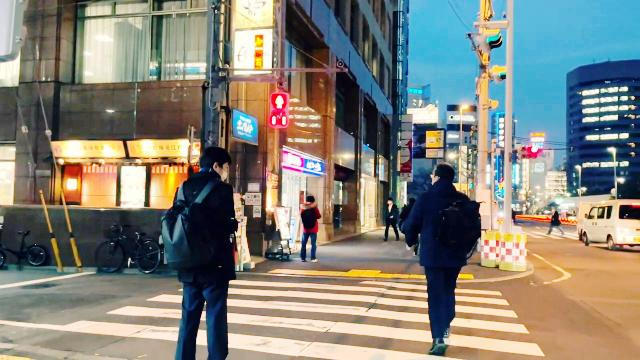berdiri: (166, 148, 252, 360)
berjalan: (396, 156, 480, 354)
